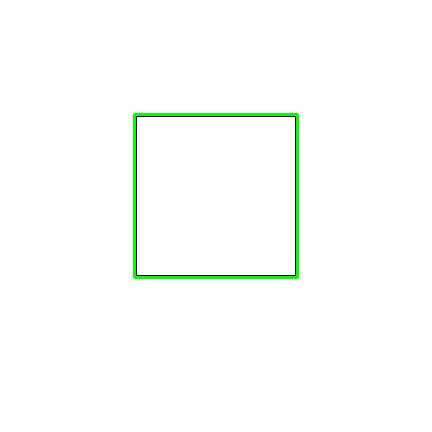line_segment: (133, 113, 299, 279)
